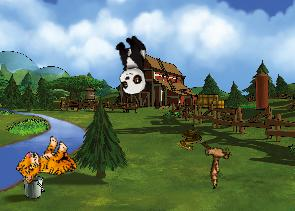eagle: (188, 131, 243, 189)
panda: (111, 33, 153, 98)
tiger: (12, 129, 82, 198)
